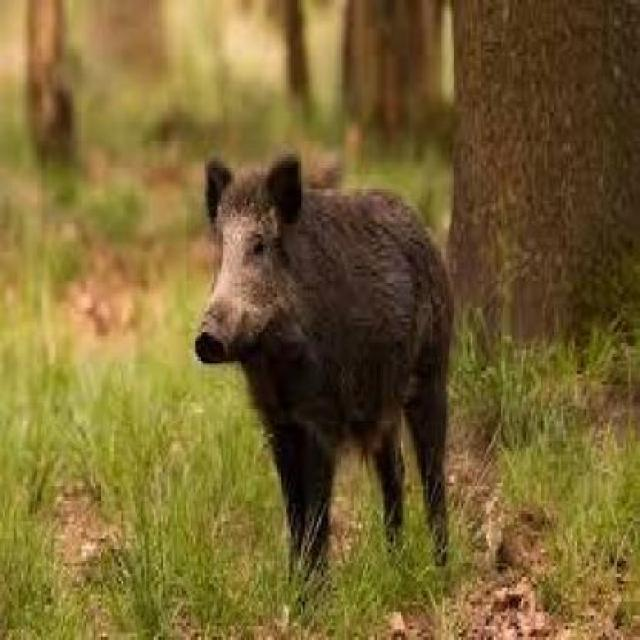wildboar: (186, 147, 459, 618)
